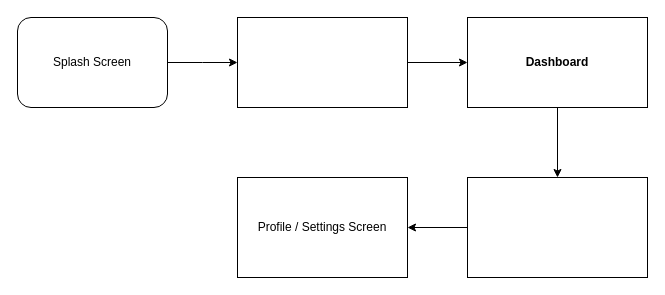
Some shapes in this 665 by 295 pixel diagram are drawn without their labels. Each missing label, with the centre of its shape:
"Core Feature Screen" goes at point 557,227.
"Login" goes at point 322,62.
